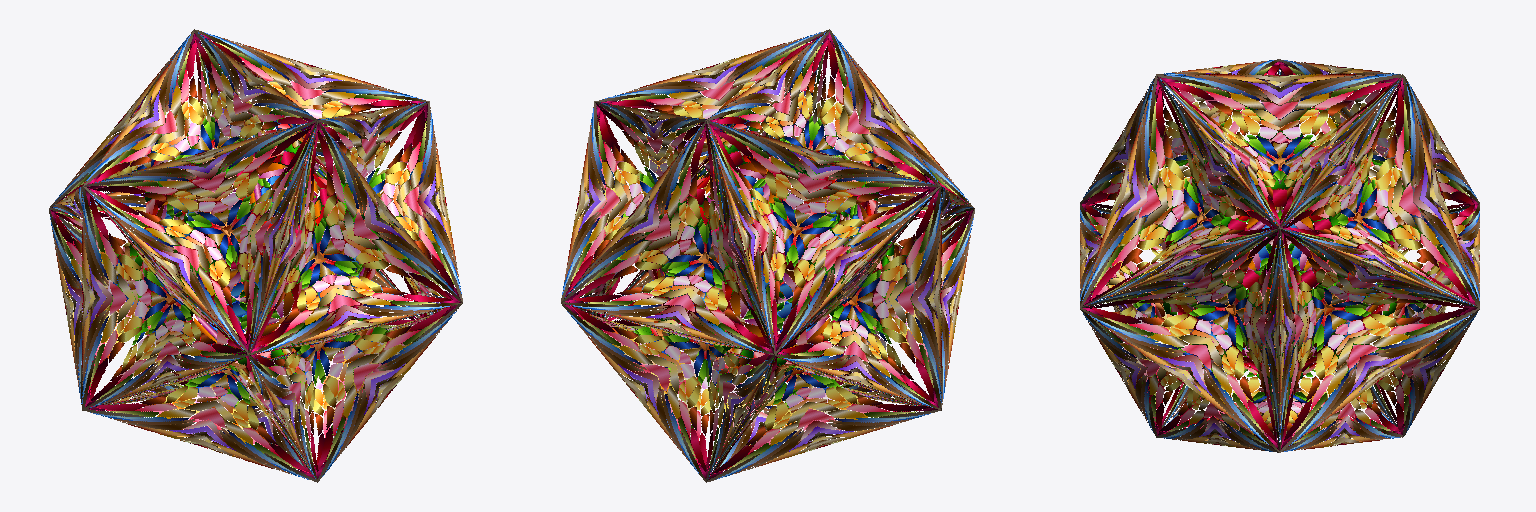
The picture shows the model from 3 angles: view 1: azimuth 30°, elevation 25°; view 2: azimuth 150°, elevation 25°; view 3: azimuth 270°, elevation 25°; orthographic projection.
Bounding box in the file's own units: 1.62 × 1.62 × 1.62.
Materials: 1 (1 with a texture image).